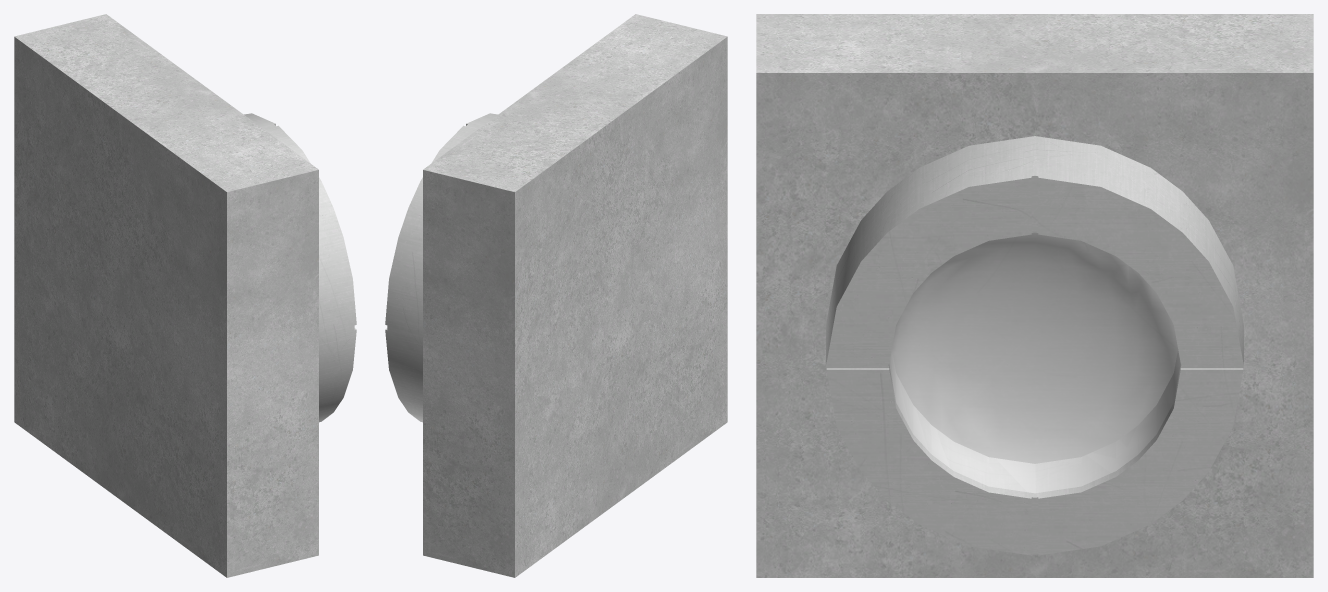
The model's file is laserReceptor.obj.
3 views of the same model, side by side, from view 1: azimuth 30°, elevation 25°; view 2: azimuth 150°, elevation 25°; view 3: azimuth 270°, elevation 25° (orthographic). The views are drawn at different scales.
Parts seen in each view (by area): view 1: Wall1, Base1; view 2: Wall1, Base1; view 3: Wall1, Base1, Lens1, Back1.
Part boxes in pixels (bbox=[...]): Wall1: bbox=[14, 14, 318, 577]; Base1: bbox=[244, 113, 356, 422]; Wall1: bbox=[423, 14, 727, 577]; Base1: bbox=[385, 113, 497, 422]; Wall1: bbox=[756, 14, 1313, 577]; Base1: bbox=[826, 136, 1243, 555]; Lens1: bbox=[889, 232, 1180, 493]; Back1: bbox=[892, 233, 1177, 463].
Bounding box in the file's own units: 1.7 × 4 × 4.
Materials: 3 (2 with a texture image).
